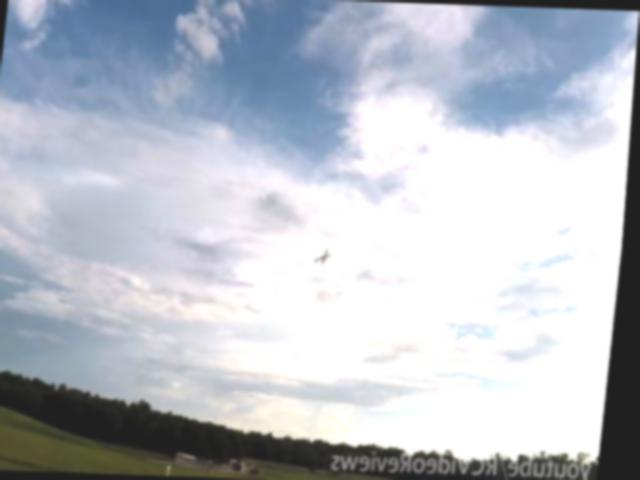uav: (314, 241, 342, 270)
